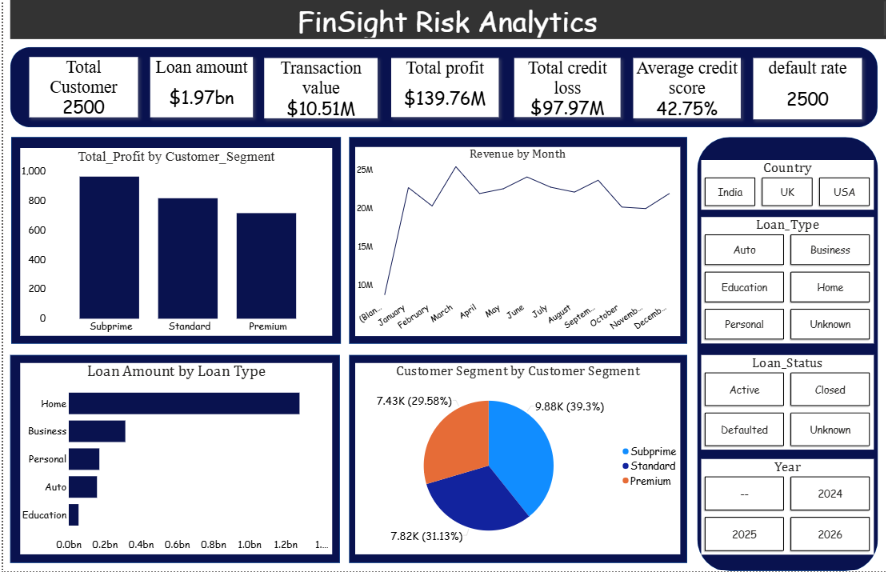

What the dashboard file says about the page in this screenshot:
{"tool":"powerbi","page":{"name":"Executive Overview","canvas":[3400,2200],"ordinal":0},"visuals":[{"type":"shape","box":[27.3,181.8,3336.4,309.1],"z":0},{"type":"shape","box":[31.8,527.3,1268.2,795.5],"z":1000},{"type":"shape","box":[1331.8,1363.6,1300,800],"z":2000},{"type":"shape","box":[27.3,1363.6,1268.2,800],"z":3000},{"type":"shape","box":[1331.8,527.3,1300,795.5],"z":4000},{"type":"shape","box":[2668.2,527.3,695.5,1672.7],"z":5000},{"type":"card","title":"Total Customer","fields":{"Values":["fintech_banking_analytics banking_data.Total customer"]},"box":[100,218.2,418.2,231.8],"z":6000},{"type":"card","title":"Transaction value","fields":{"Values":["Sum(fintech_banking_analytics banking_data.Transaction_Amount)"]},"box":[1004.5,222.7,436.4,231.8],"z":7000},{"type":"card","title":"Total  profit","fields":{"Values":["Sum(fintech_banking_analytics banking_data.Customer_Profit)"]},"box":[1490.9,222.7,413.6,227.3],"z":8000},{"type":"card","title":"Total credit loss","fields":{"Values":["Sum(fintech_banking_analytics banking_data.Credit_Loss)"]},"box":[1963.6,222.7,409.1,227.3],"z":9000},{"type":"card","title":"Average credit score ","fields":{"Values":["Avg(fintech_banking_analytics banking_data.Credit_Score_Change)"]},"box":[2422.7,222.7,413.6,231.8],"z":10000},{"type":"card","title":"default rate ","fields":{"Values":["CountNonNull(fintech_banking_analytics customer_summary.Risk_Score)"]},"box":[2886.4,222.7,418.2,236.4],"z":11000},{"type":"card","title":"Loan amount","fields":{"Values":["Sum(fintech_banking_analytics banking_data.Loan_Amount)"]},"box":[563.6,218.2,395.5,231.8],"z":12000},{"type":"lineChart","title":"Revenue by Month","fields":{"Y":["fintech_banking_analytics banking_data.Total Revenue"],"Category":["fintech_banking_analytics banking_data.Transaction_Date.Variation.Date Hierarchy.Month"]},"box":[1354.5,563.6,1250,727.3],"z":13000},{"type":"clusteredColumnChart","title":"Total_Profit by Customer_Segment","fields":{"Y":["CountNonNull(fintech_banking_analytics customer_summary.Total_Profit)"],"Category":["fintech_banking_analytics customer_summary.Customer_Segment"]},"box":[63.6,568.2,1200,722.7],"z":14000},{"type":"clusteredBarChart","title":" Loan Amount by Loan Type","fields":{"Category":["fintech_banking_analytics banking_data.Loan_Type"],"Y":["Sum(fintech_banking_analytics banking_data.Loan_Amount)"]},"box":[63.6,1395.5,1200,736.4],"z":15000},{"type":"pieChart","title":"Customer Segment by Customer Segment","fields":{"Category":["fintech_banking_analytics banking_data.Customer_Segment"],"Y":["CountNonNull(fintech_banking_analytics banking_data.Customer_Segment)"]},"box":[1354.5,1395.5,1250,736.4],"z":16000},{"type":"advancedSlicerVisual","fields":{"Values":["fintech_banking_analytics banking_data.Country"]},"box":[2686.4,613.6,663.6,190.9],"z":17000},{"type":"advancedSlicerVisual","fields":{"Values":["fintech_banking_analytics banking_data.Loan_Type"]},"box":[2686.4,836.4,663.6,486.4],"z":18000},{"type":"advancedSlicerVisual","fields":{"Values":["fintech_banking_analytics banking_data.Loan_Status"]},"box":[2686.4,1363.6,663.6,363.6],"z":19000},{"type":"advancedSlicerVisual","fields":{"Values":["fintech_banking_analytics banking_data.Transaction_Date.Variation.Date Hierarchy.Year"]},"box":[2686.4,1763.6,663.6,368.2],"z":20000},{"type":"textbox","box":[27.3,0,3372.7,150],"z":20008}]}

Visuals, with their boxes in screenshot pixels (x1, y1, x2, y2), scaled from the page's 3400x2200 canvas onto the 886x572 screenshot:
shape: {"x1": 7, "y1": 47, "x2": 877, "y2": 128}
shape: {"x1": 8, "y1": 137, "x2": 339, "y2": 344}
shape: {"x1": 347, "y1": 355, "x2": 686, "y2": 563}
shape: {"x1": 7, "y1": 355, "x2": 338, "y2": 563}
shape: {"x1": 347, "y1": 137, "x2": 686, "y2": 344}
shape: {"x1": 695, "y1": 137, "x2": 877, "y2": 571}
"Total Customer" card: {"x1": 26, "y1": 57, "x2": 135, "y2": 117}
"Transaction value" card: {"x1": 262, "y1": 58, "x2": 375, "y2": 118}
"Total  profit" card: {"x1": 389, "y1": 58, "x2": 496, "y2": 117}
"Total credit loss" card: {"x1": 512, "y1": 58, "x2": 618, "y2": 117}
"Average credit score " card: {"x1": 631, "y1": 58, "x2": 739, "y2": 118}
"default rate " card: {"x1": 752, "y1": 58, "x2": 861, "y2": 119}
"Loan amount" card: {"x1": 147, "y1": 57, "x2": 250, "y2": 117}
"Revenue by Month" lineChart: {"x1": 353, "y1": 147, "x2": 679, "y2": 336}
"Total_Profit by Customer_Segment" clusteredColumnChart: {"x1": 17, "y1": 148, "x2": 329, "y2": 336}
" Loan Amount by Loan Type" clusteredBarChart: {"x1": 17, "y1": 363, "x2": 329, "y2": 554}
"Customer Segment by Customer Segment" pieChart: {"x1": 353, "y1": 363, "x2": 679, "y2": 554}
advancedSlicerVisual - fintech_banking_analytics banking_data.Country: {"x1": 700, "y1": 160, "x2": 873, "y2": 209}
advancedSlicerVisual - fintech_banking_analytics banking_data.Loan_Type: {"x1": 700, "y1": 217, "x2": 873, "y2": 344}
advancedSlicerVisual - fintech_banking_analytics banking_data.Loan_Status: {"x1": 700, "y1": 355, "x2": 873, "y2": 449}
advancedSlicerVisual - fintech_banking_analytics banking_data.Transaction_Date.Variation.Date Hierarchy.Year: {"x1": 700, "y1": 459, "x2": 873, "y2": 554}
textbox: {"x1": 7, "y1": 0, "x2": 885, "y2": 39}
